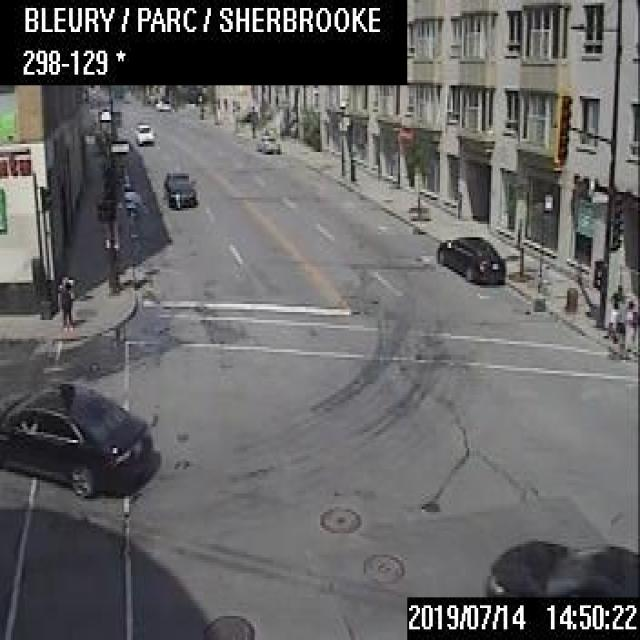pedestrian: (622, 297, 638, 359), (605, 292, 620, 351), (58, 278, 73, 325)
vehicle: (0, 378, 153, 498), (484, 537, 638, 595), (434, 234, 507, 283), (162, 169, 196, 208), (132, 120, 153, 144), (255, 131, 279, 152), (154, 96, 170, 109), (96, 105, 110, 119)
